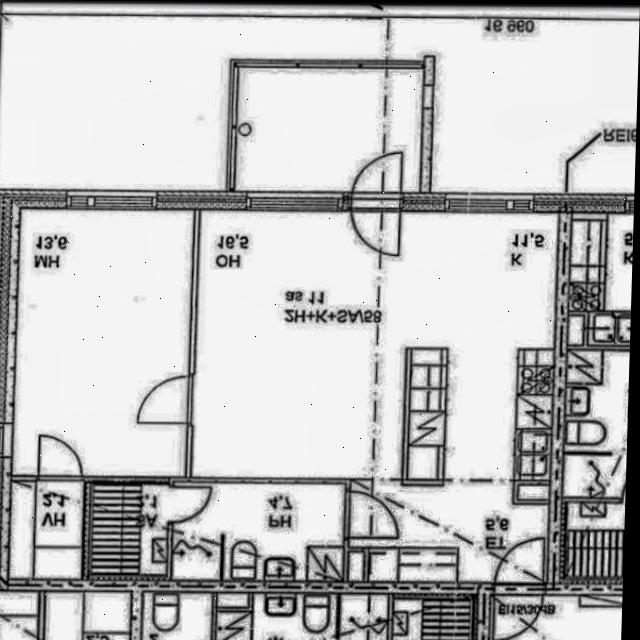room: (11, 203, 195, 482), (171, 483, 345, 582), (90, 482, 170, 578), (8, 480, 84, 580)
